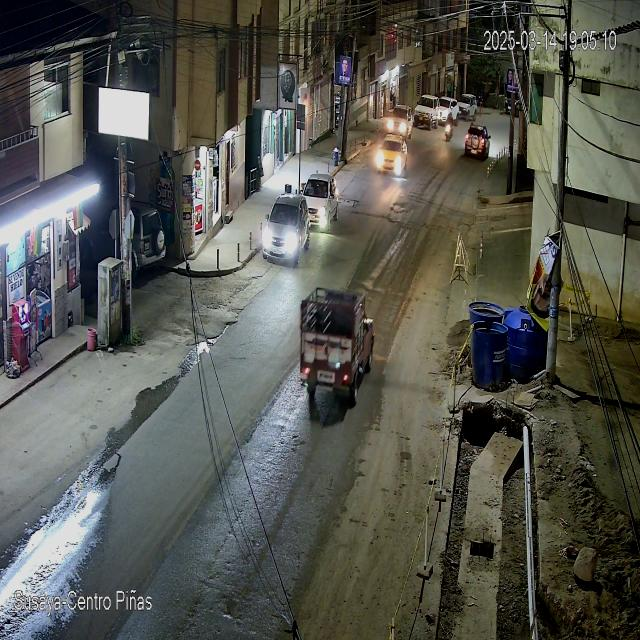CMT: (300, 288, 374, 408)
